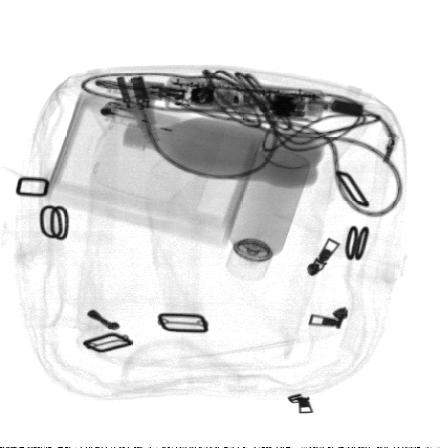Lighter: (238, 87, 327, 123)
Sprayer: (225, 148, 313, 282)
